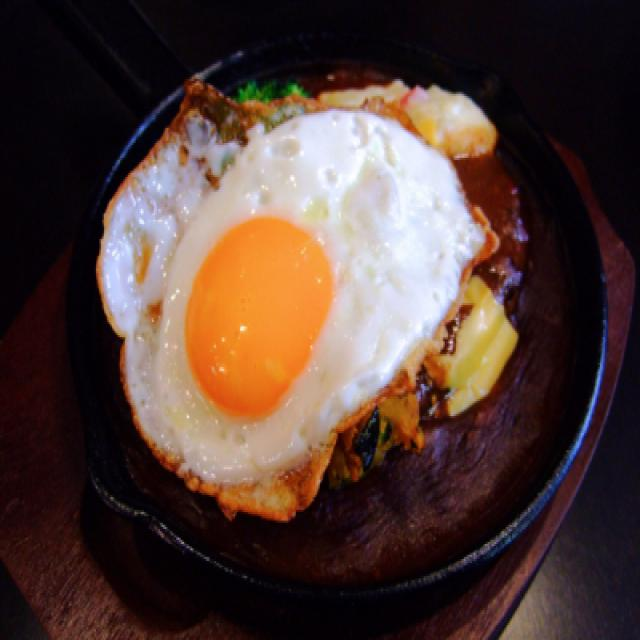鸡蛋料理: (106, 88, 620, 608)
